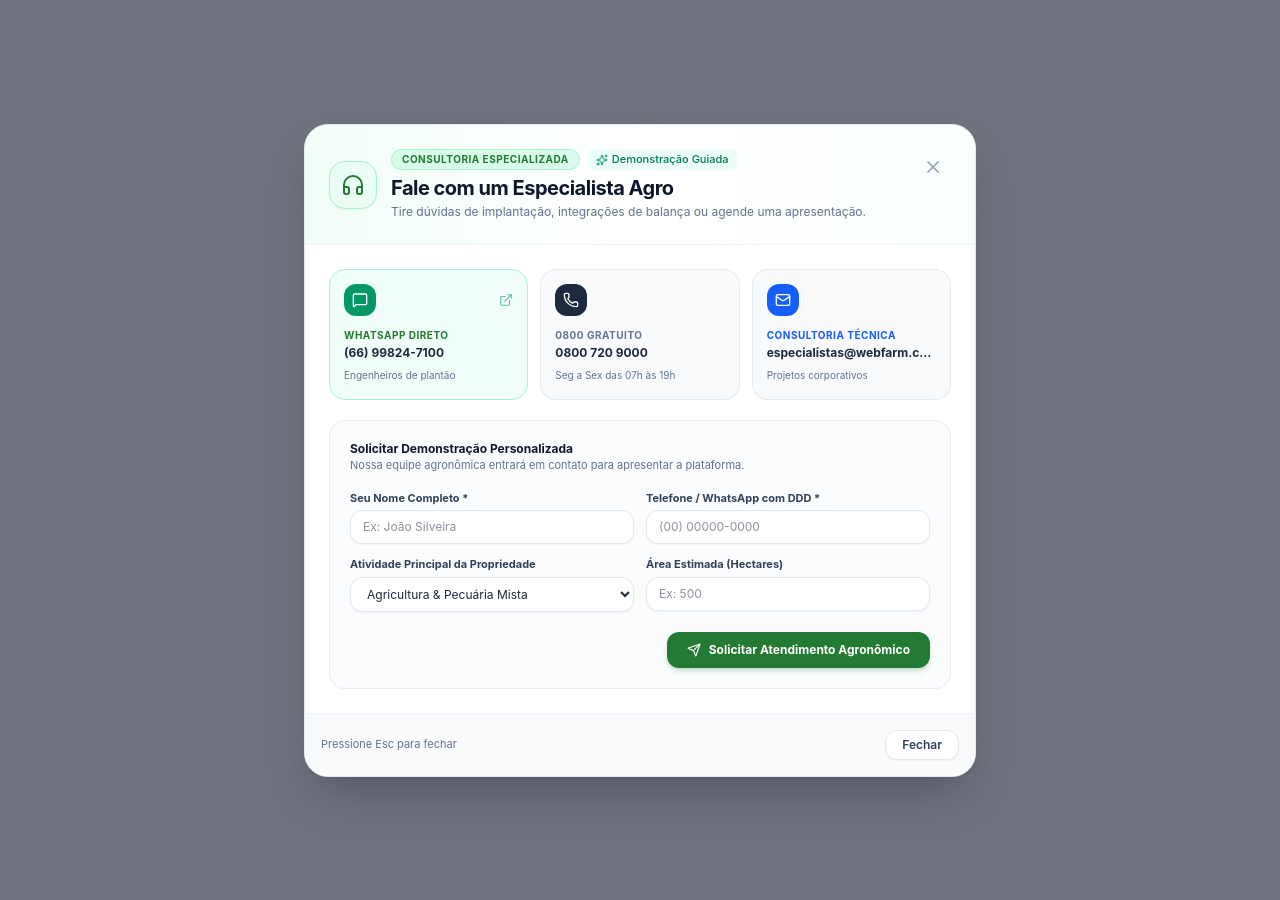
Test: Componente EspecialistaAgroModal › deve enviar formulário e exibir mensagem de sucesso
Type "Mateus Oliveira" into the field with placeholder "Ex: João Silveira" at (492, 527), box [350,510,634,544]
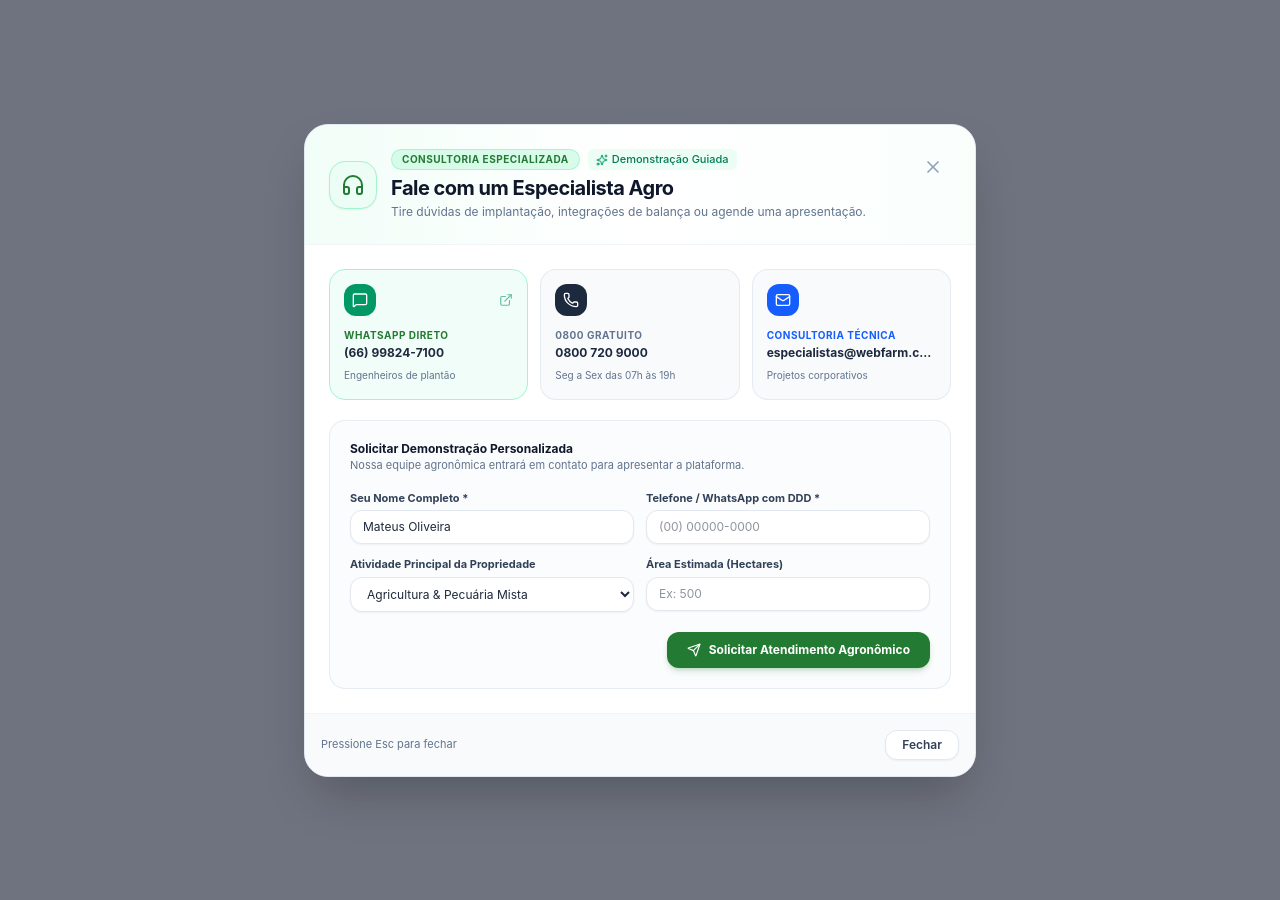
Type "(66) 99824-7100" into the field with placeholder "(00) 00000-0000" at (788, 527), box [646,510,930,544]
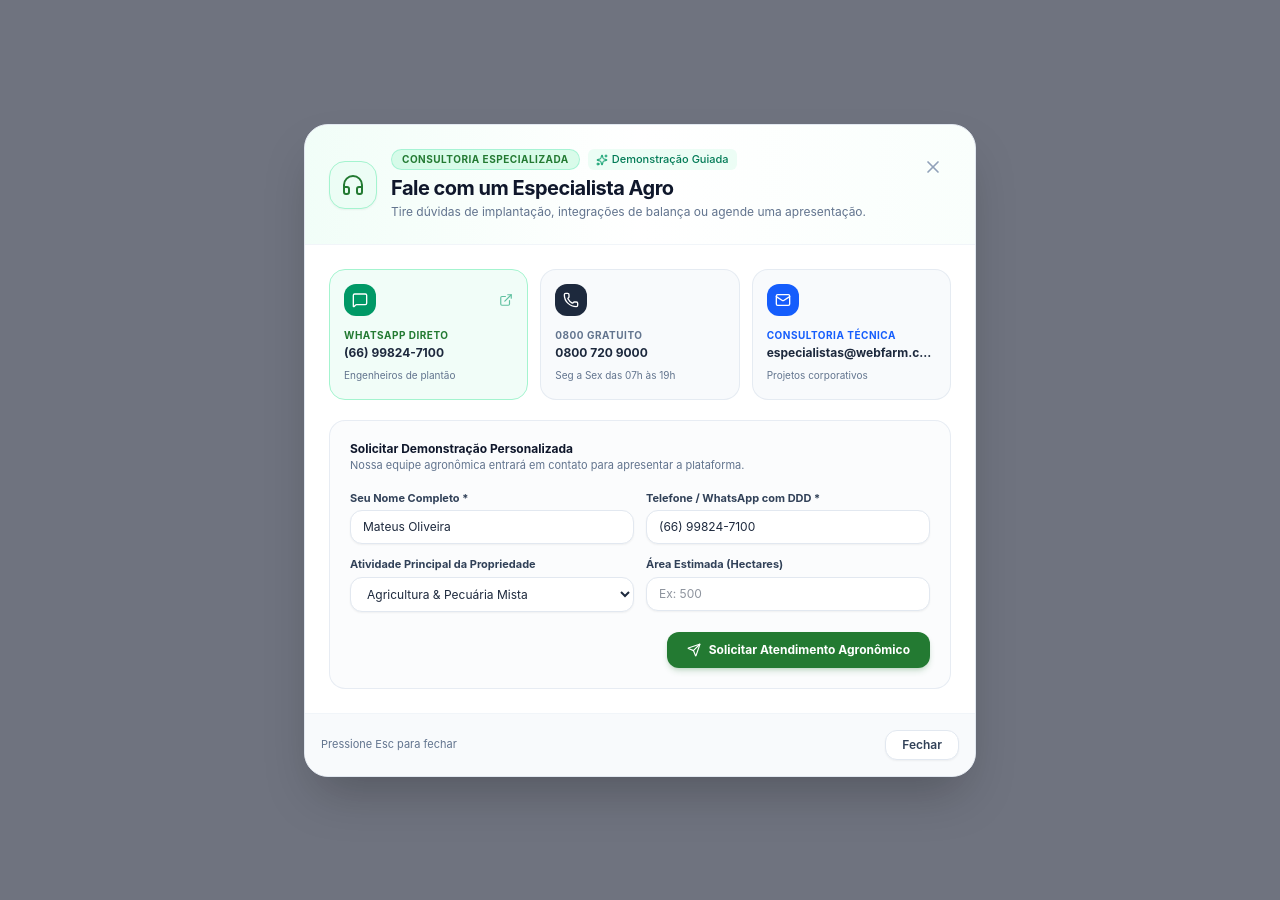
Submit the text "Solicitar Atendimento Agronômico", box [350,489,930,667]
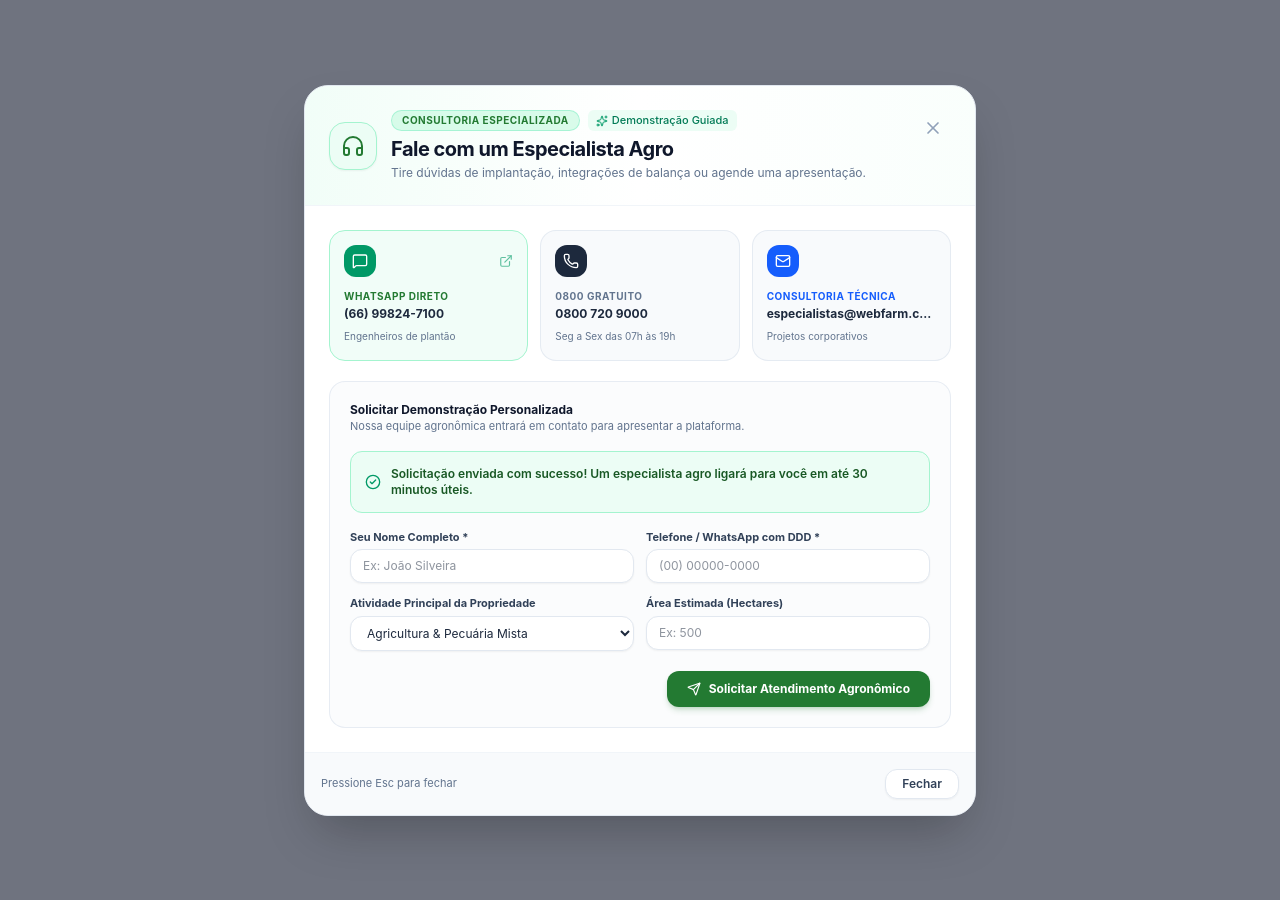
Check: the text "Solicitação enviada com sucesso!" is shown, box [391,465,868,496]
